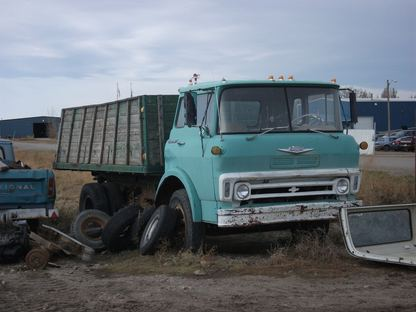truck: (46, 72, 369, 264), (0, 137, 60, 264), (375, 136, 400, 152), (390, 129, 416, 140)
